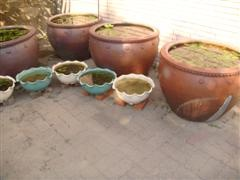bowl: (158, 37, 240, 122), (87, 19, 158, 75), (47, 12, 102, 59), (1, 24, 38, 76), (112, 73, 155, 105), (77, 67, 117, 94), (15, 65, 52, 91), (51, 59, 88, 84)
